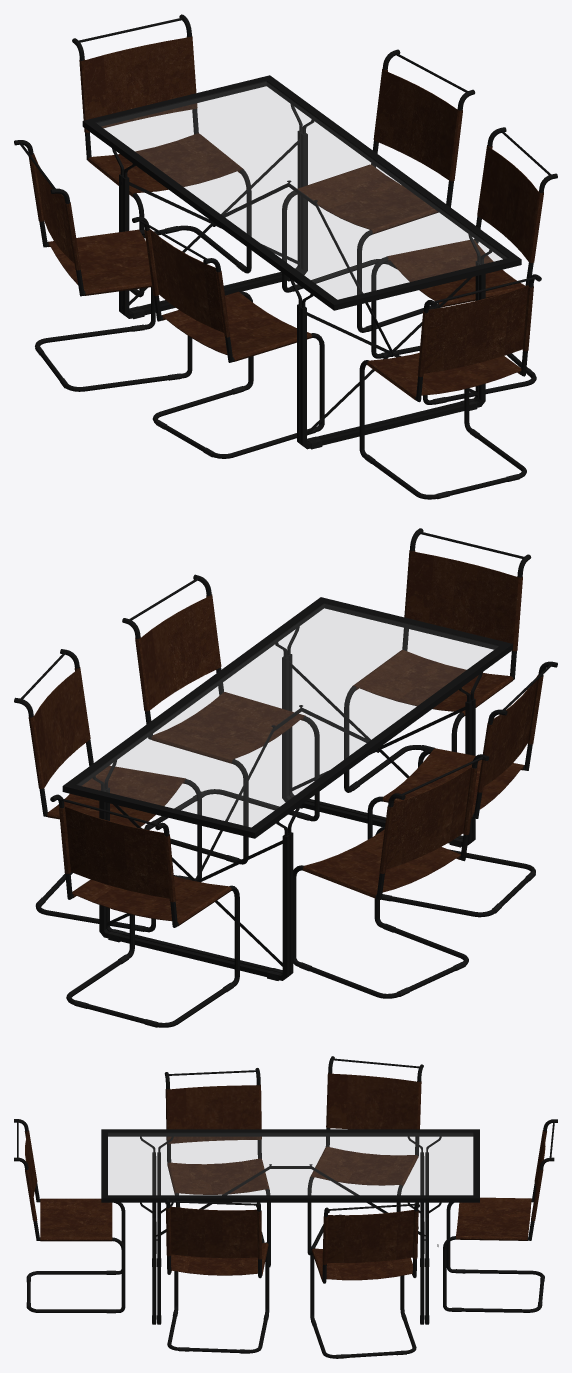
The model's file is Dining Table Glass.obj.
3 renders of one model, top to bottom at view 1: azimuth 30°, elevation 25°; view 2: azimuth 150°, elevation 25°; view 3: azimuth 270°, elevation 25°, orthographic. The views are drawn at different scales.
Visible parts, largest first — view 1: Set01, Object001; view 2: Set01, Object001; view 3: Set01, Object001.
Part boxes in pixels (bbox=[...]): Set01: bbox=[14, 14, 557, 499]; Object001: bbox=[97, 82, 505, 298]; Set01: bbox=[14, 528, 557, 1027]; Object001: bbox=[78, 604, 497, 826]; Set01: bbox=[14, 1056, 557, 1358]; Object001: bbox=[108, 1133, 472, 1194].
Bounding box in the file's own units: 75.85 × 35.7 × 113.
